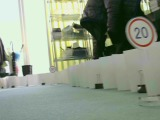speed_20: (125, 16, 157, 48)
